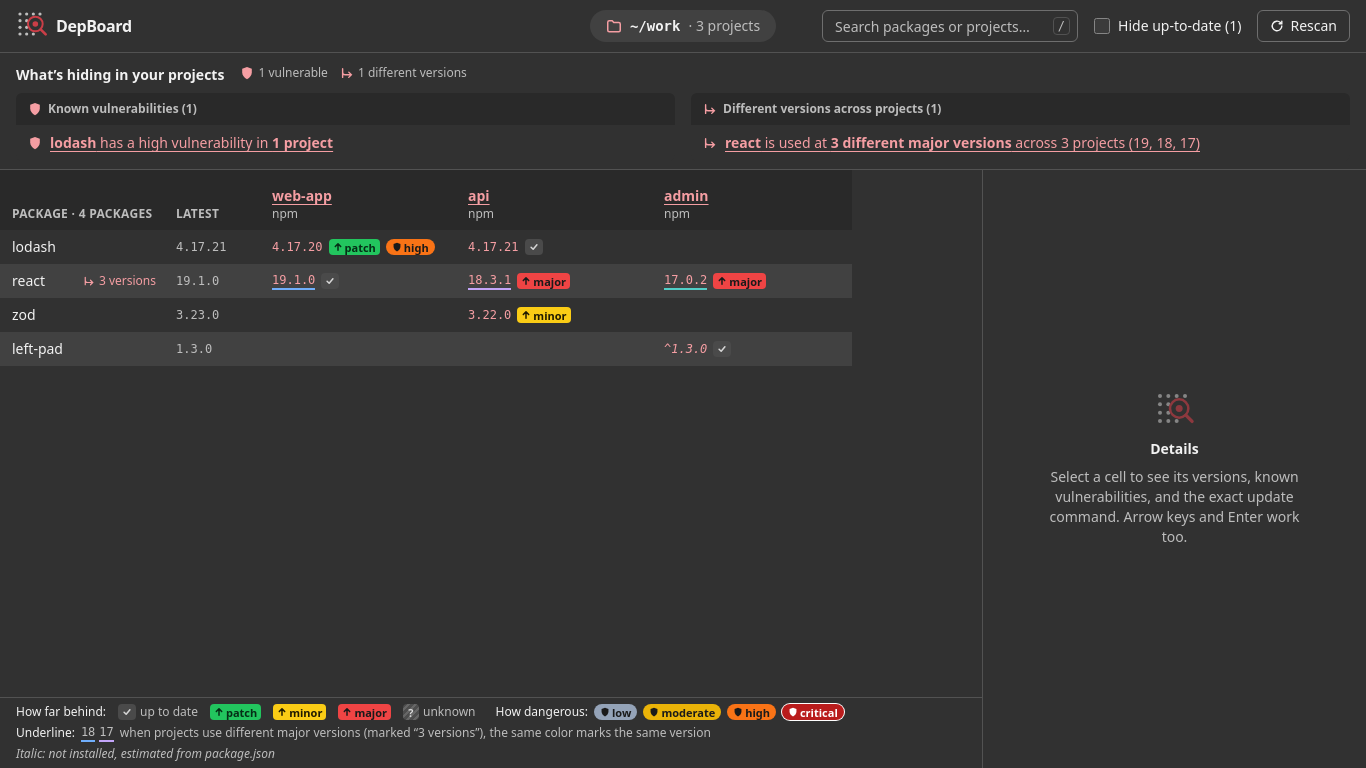
Test: states › keeps the matrix when a rescan fails, and says why
Click the button "Rescan": (1304,26) [1258, 10, 1350, 42]
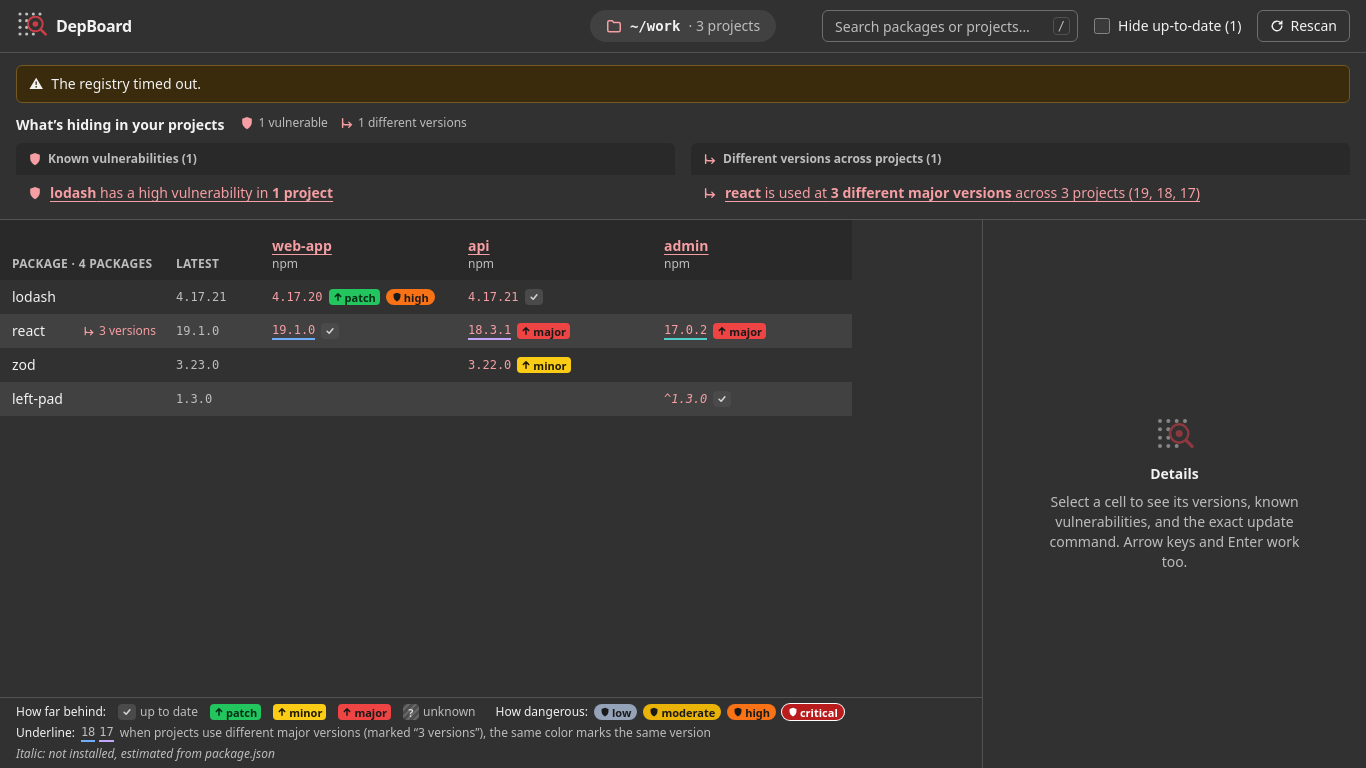
Expected: the table is shown, [0, 220, 852, 416]
Expected: the text "The registry timed out." is shown, [51, 74, 201, 94]
